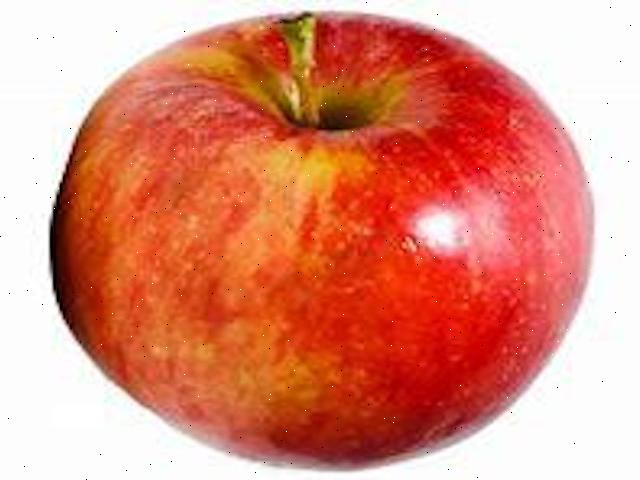apple: (36, 0, 599, 478)
